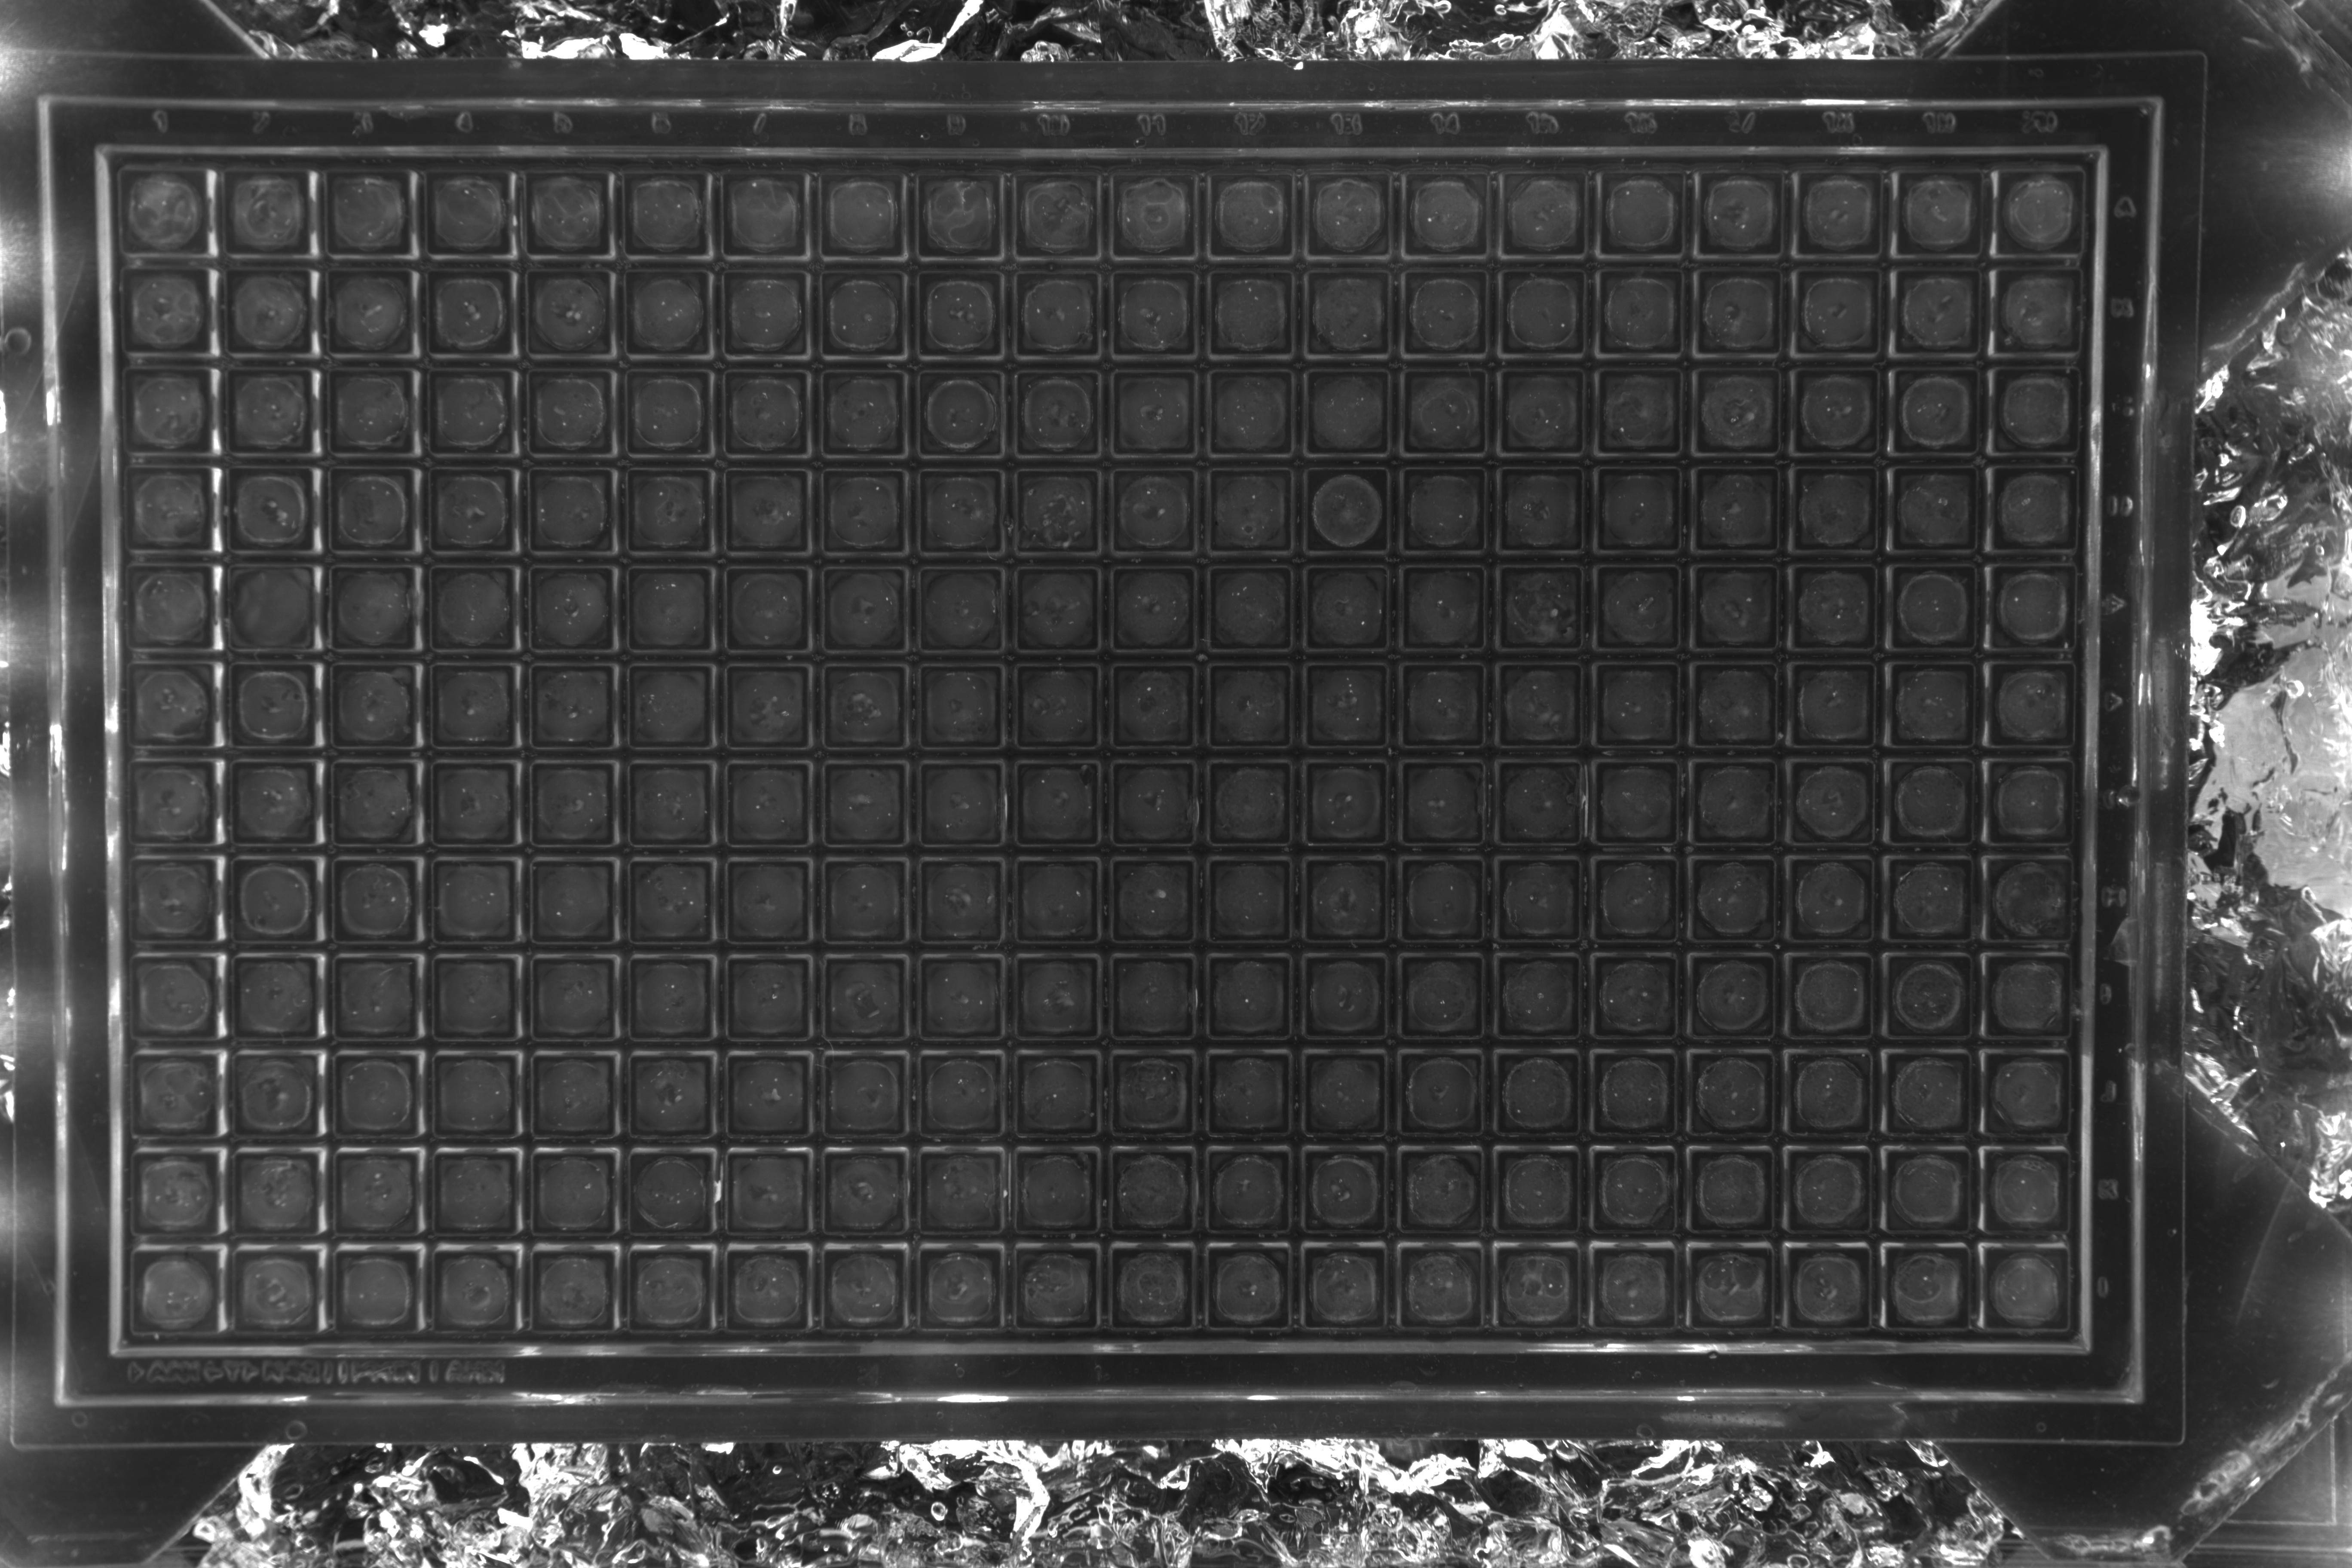WM_well: (395, 535, 485, 623), (588, 338, 677, 425), (789, 922, 878, 1010), (1176, 630, 1265, 717), (290, 238, 378, 325), (388, 138, 476, 226), (497, 730, 584, 817), (693, 1018, 780, 1106), (789, 824, 877, 912), (884, 338, 971, 425), (982, 436, 1069, 523), (1080, 436, 1167, 523), (1080, 532, 1167, 619), (1176, 1017, 1263, 1104), (1466, 726, 1554, 814), (1468, 434, 1556, 521), (1568, 234, 1655, 322), (1664, 432, 1752, 520), (1762, 528, 1850, 616), (1857, 1213, 1944, 1300), (1963, 229, 2051, 317), (2054, 1213, 2142, 1300), (2056, 1017, 2144, 1104)
